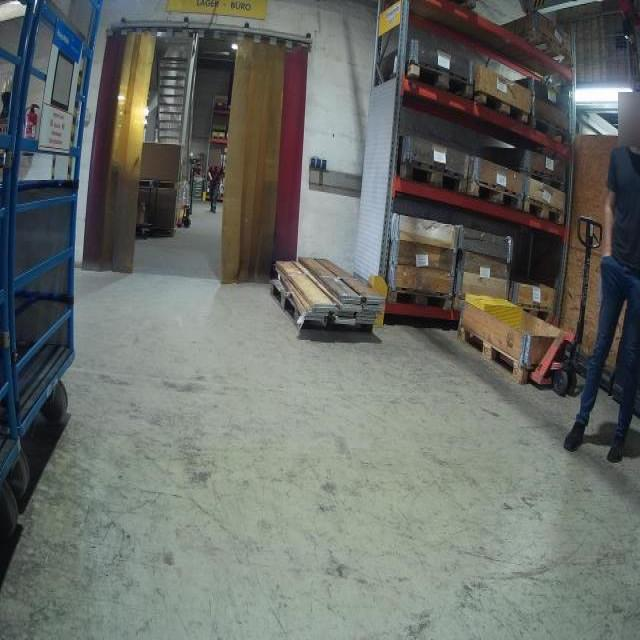pallet: (267, 275, 374, 336), (454, 325, 532, 385), (405, 61, 476, 103), (397, 161, 469, 197), (468, 176, 525, 215), (384, 282, 455, 311), (476, 88, 528, 127), (527, 29, 574, 68), (530, 114, 574, 148), (524, 195, 567, 229), (514, 302, 554, 322), (138, 179, 178, 194), (212, 136, 226, 140)
pallet_truck: (531, 209, 603, 400), (179, 169, 201, 232)
